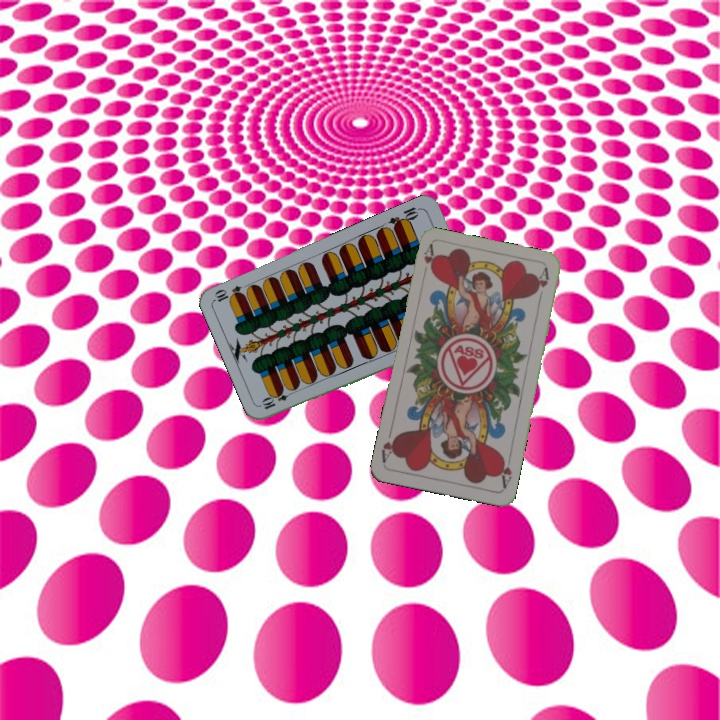E10: (385, 203, 423, 232), (258, 386, 297, 412)
HA: (495, 451, 514, 491), (419, 241, 437, 282)
